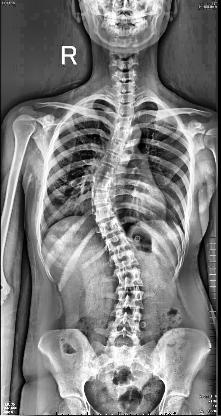Vertebrae: (110, 249, 140, 272), (108, 330, 142, 348), (116, 290, 146, 310), (116, 268, 144, 289), (114, 310, 142, 328), (98, 218, 122, 238), (106, 234, 130, 252), (100, 150, 121, 167), (93, 206, 115, 222), (94, 164, 115, 178), (107, 140, 125, 156), (92, 192, 112, 206), (111, 128, 129, 142), (92, 178, 110, 192), (118, 104, 134, 116), (118, 116, 132, 128), (118, 93, 134, 103)
